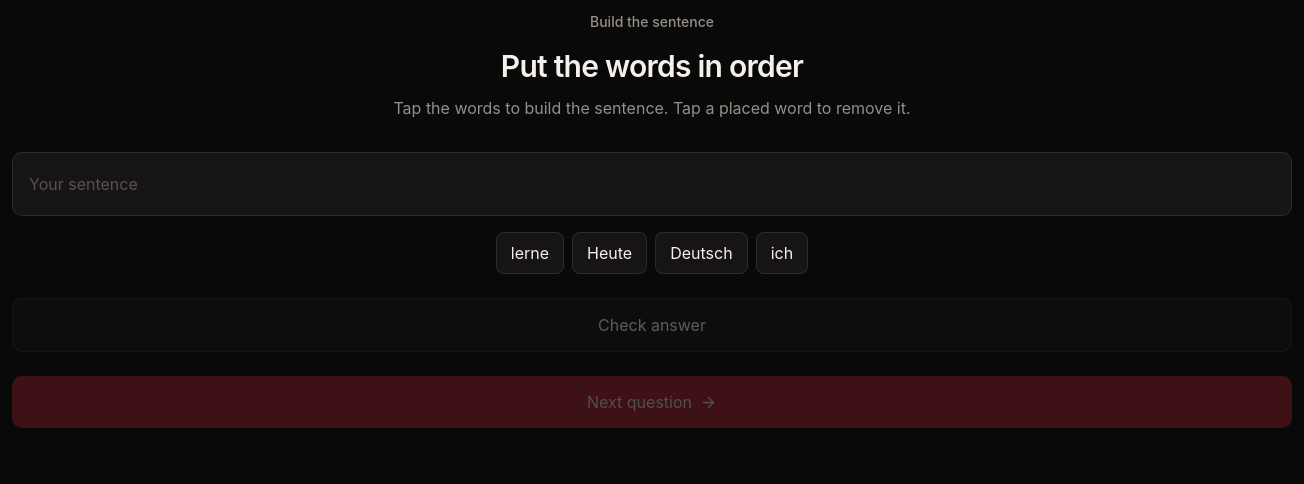
Test case: CoursePractice › accepts the correct word order when building a sentence
Click the button "Heute" at (610,253), box [572, 232, 647, 274]
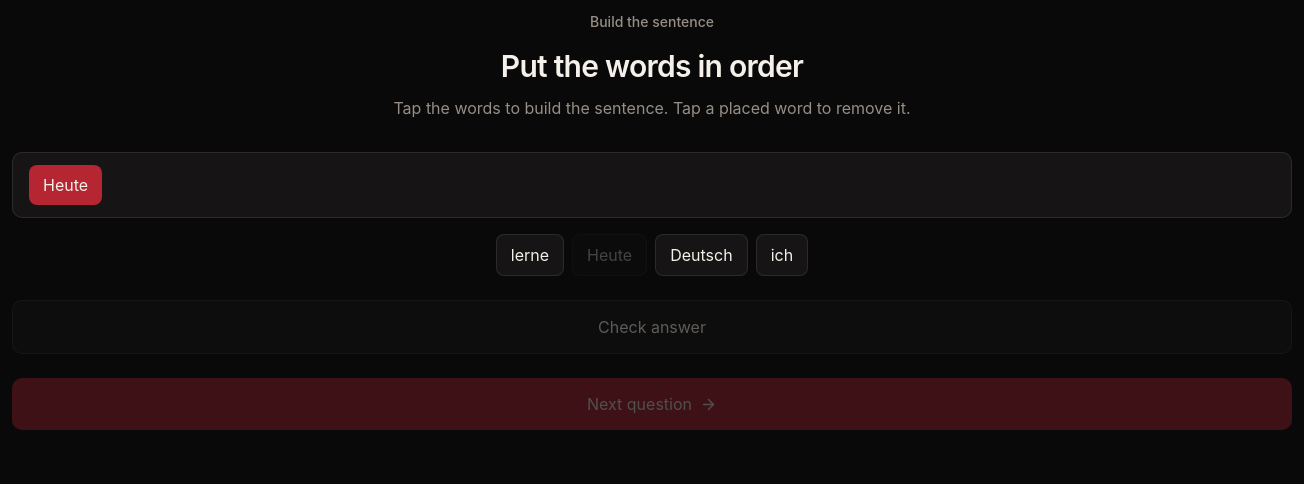
Click the button "lerne" at (530,255), box [496, 234, 564, 276]
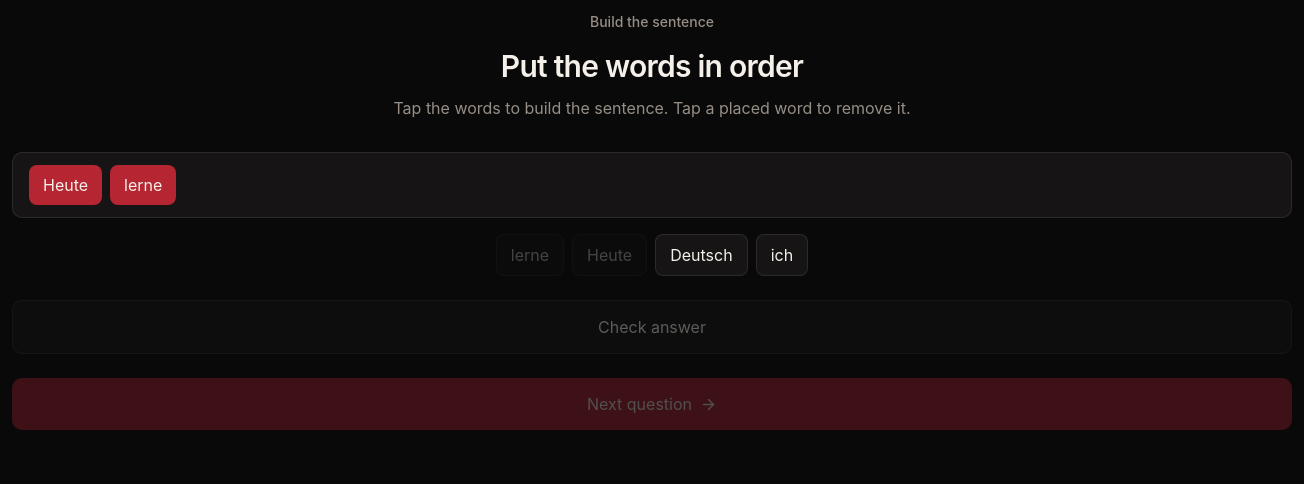
Click the button "ich" at (782,255), box [756, 234, 808, 276]
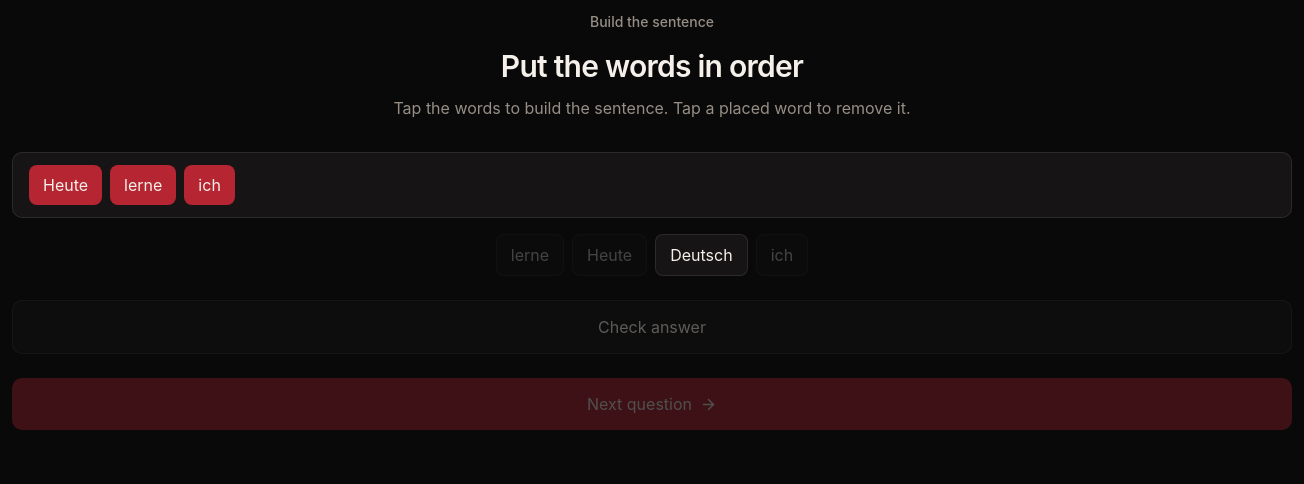
Click the button "Deutsch" at (701,255), box [655, 234, 748, 276]
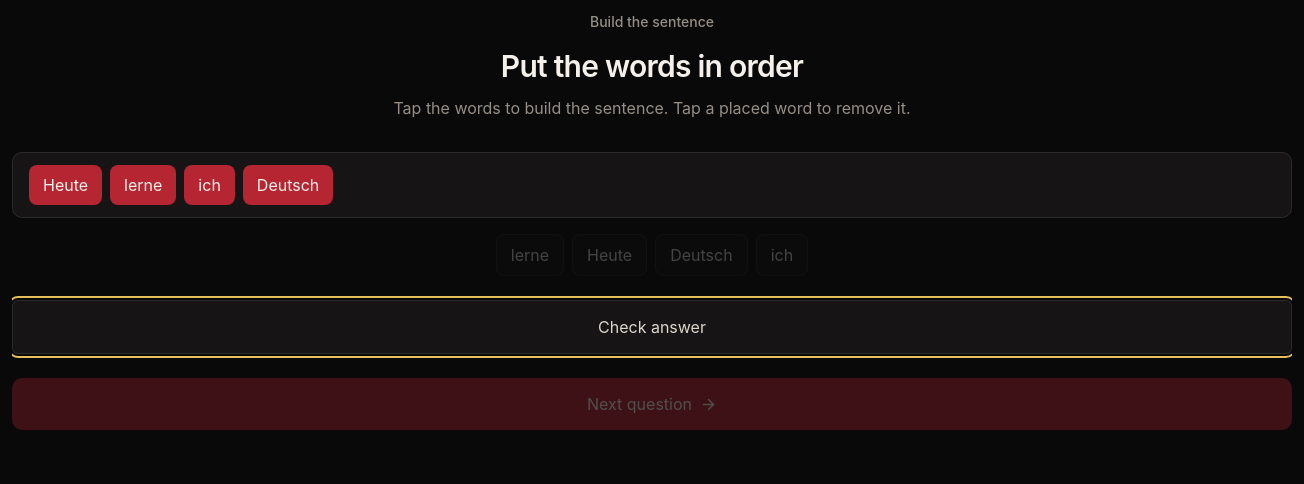
Click the button "Check answer" at (652,327), box [12, 300, 1292, 354]
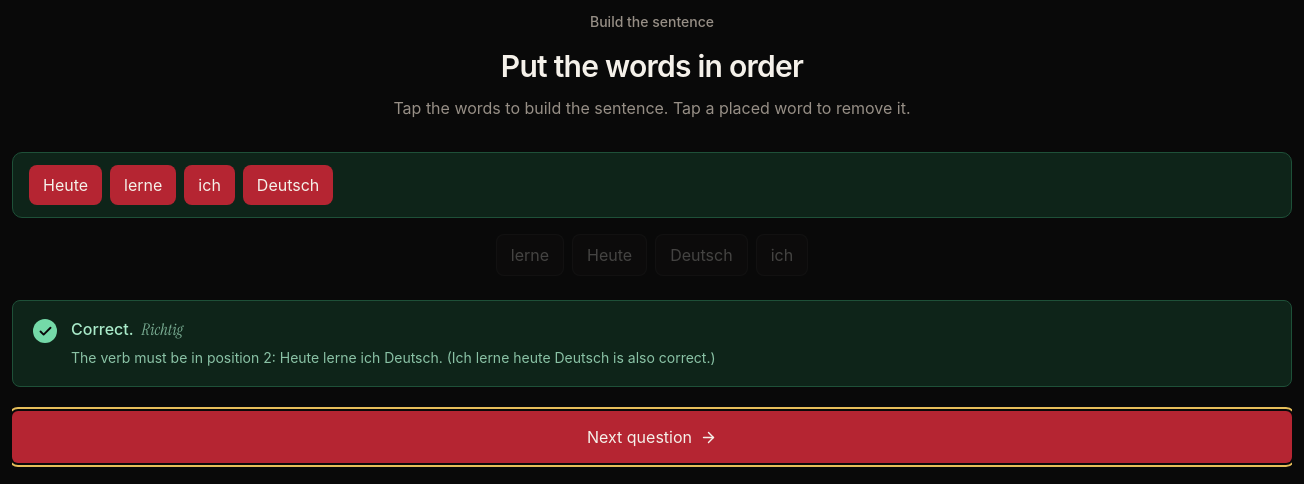
Check: the text "Correct." is shown, box [71, 317, 134, 341]
